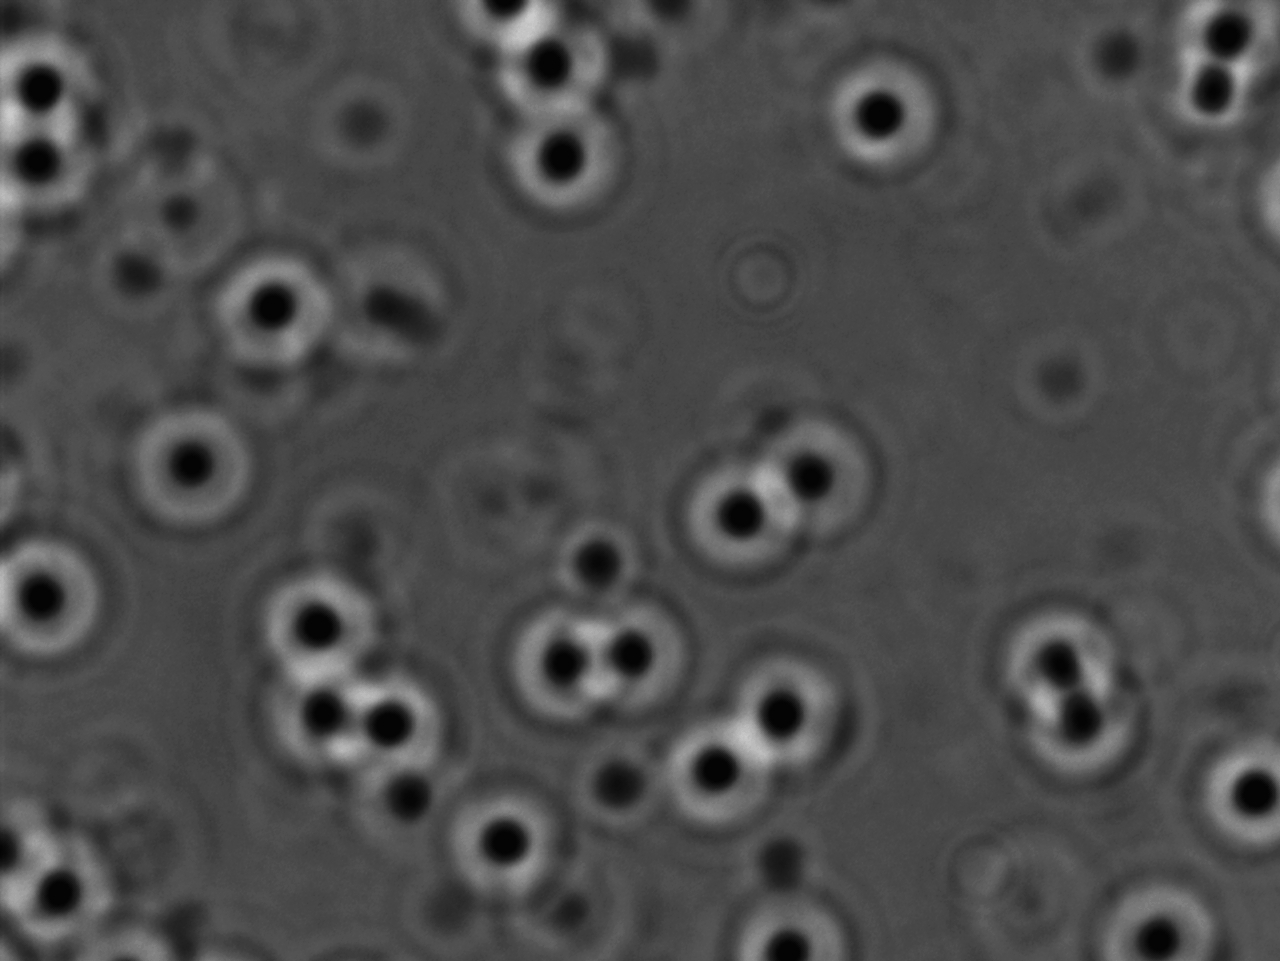depth:-32: (704, 638, 862, 792), (732, 391, 883, 549), (651, 430, 806, 583), (120, 398, 268, 546), (486, 591, 633, 738), (323, 648, 472, 792), (969, 577, 1108, 726), (809, 55, 949, 199), (1020, 657, 1158, 804), (489, 100, 635, 237), (208, 231, 341, 377), (636, 693, 773, 834), (232, 555, 375, 688), (341, 734, 470, 866), (482, 12, 616, 137), (569, 579, 701, 706), (250, 659, 380, 783), (443, 778, 565, 909), (1176, 721, 1280, 857), (1076, 881, 1250, 961), (722, 885, 868, 960)
